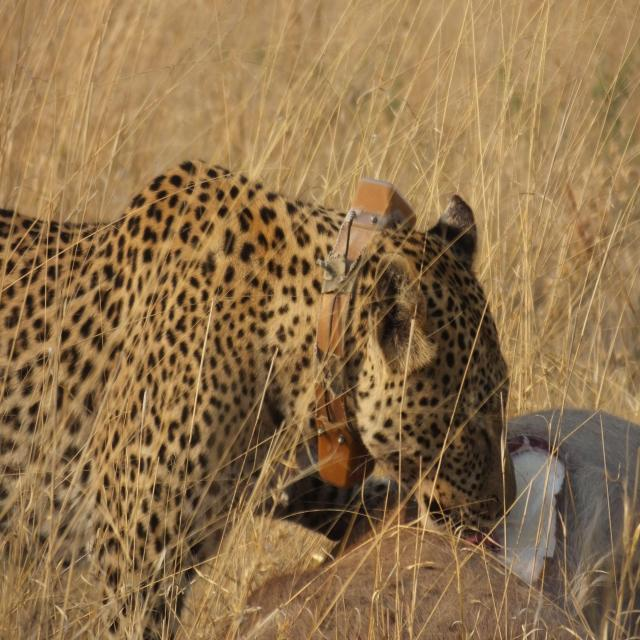Leopard: (0, 151, 523, 639)
